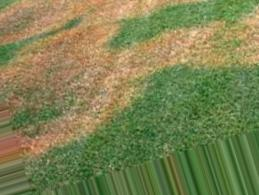patch: (78, 37, 125, 75), (41, 45, 78, 87), (134, 30, 188, 48), (134, 48, 165, 69), (61, 100, 90, 122), (94, 84, 118, 109), (200, 42, 226, 62), (93, 4, 117, 24), (51, 9, 73, 26)
